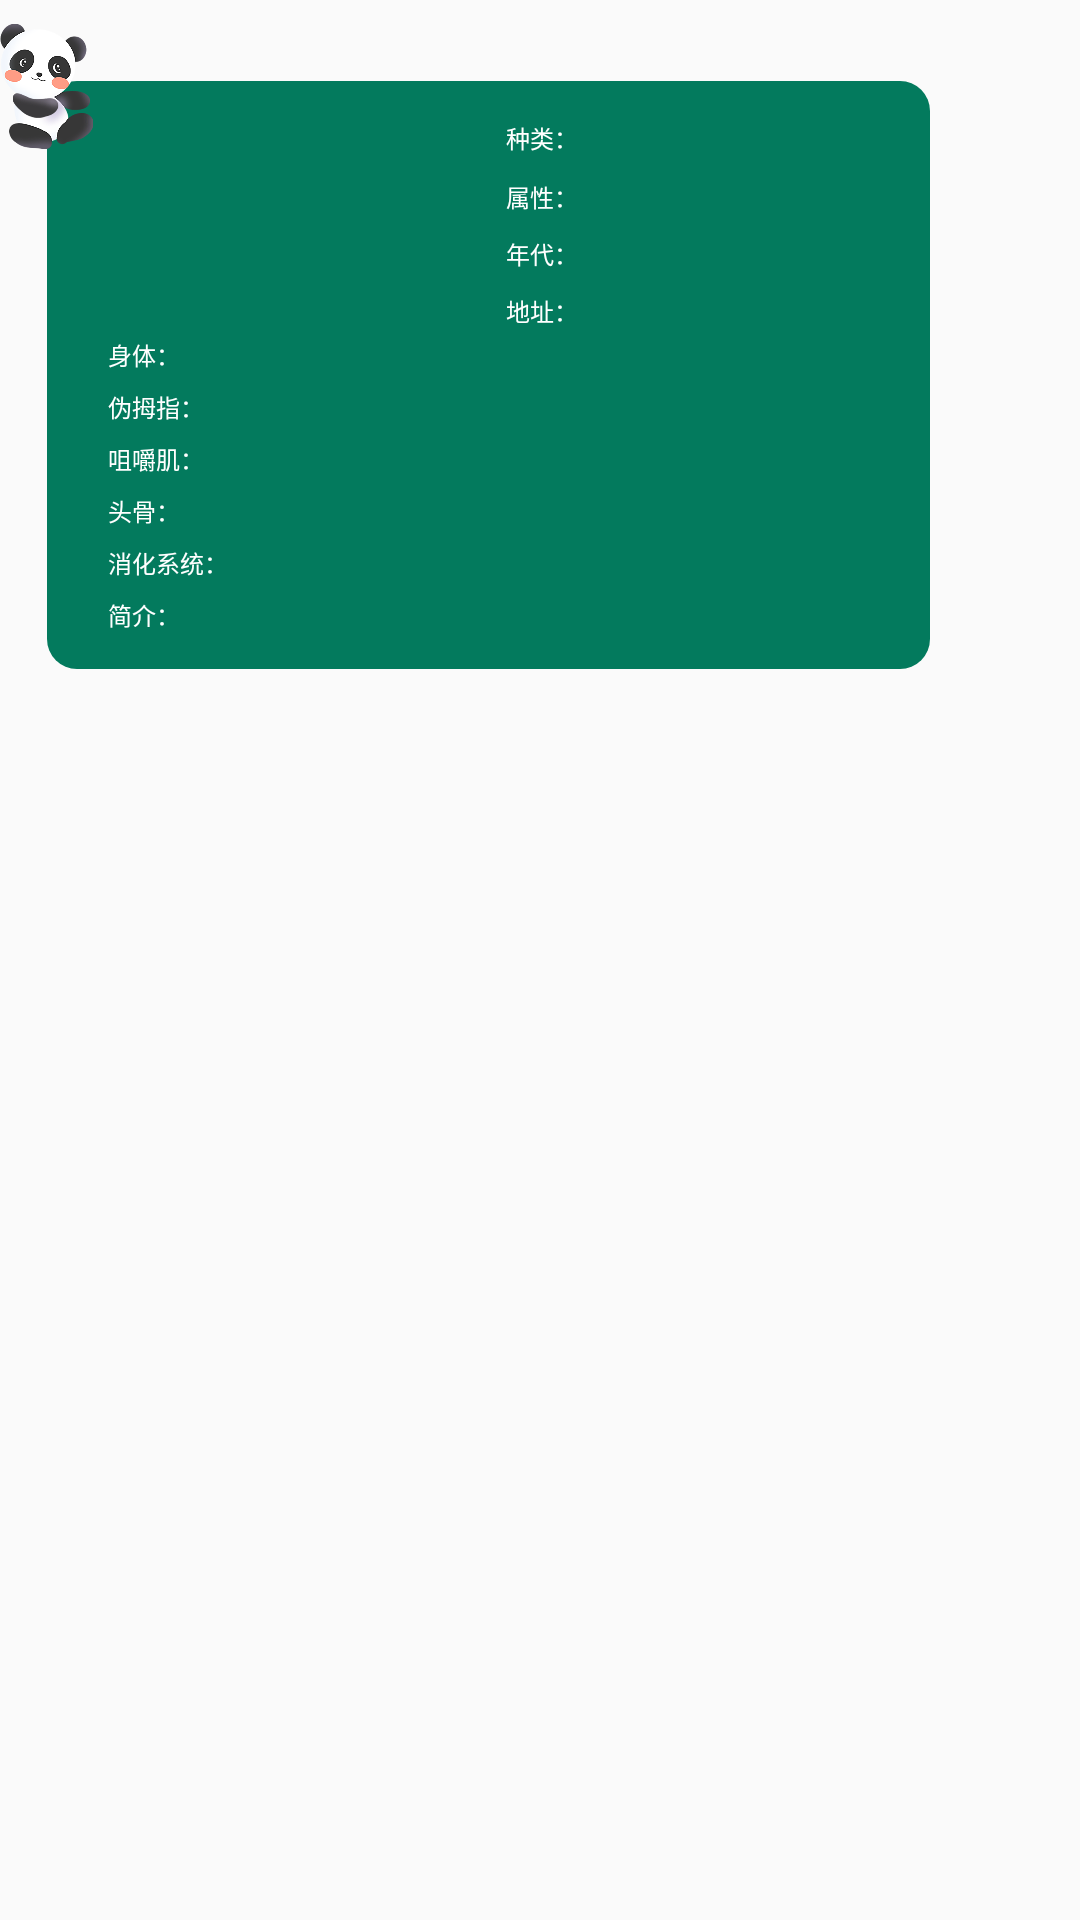

Icons on this 1080 × 1920 Android screen, each with the point to tap as point (x, y):
panda: point (47, 86)
